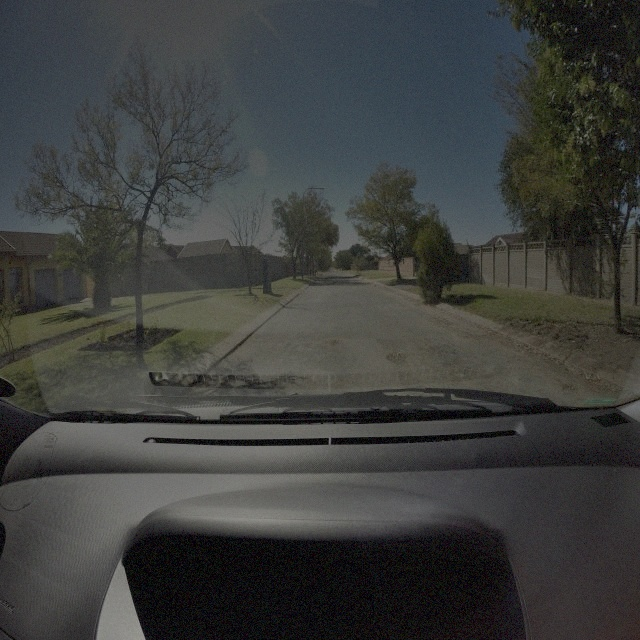pothole: (388, 353, 407, 367), (326, 338, 341, 348)
